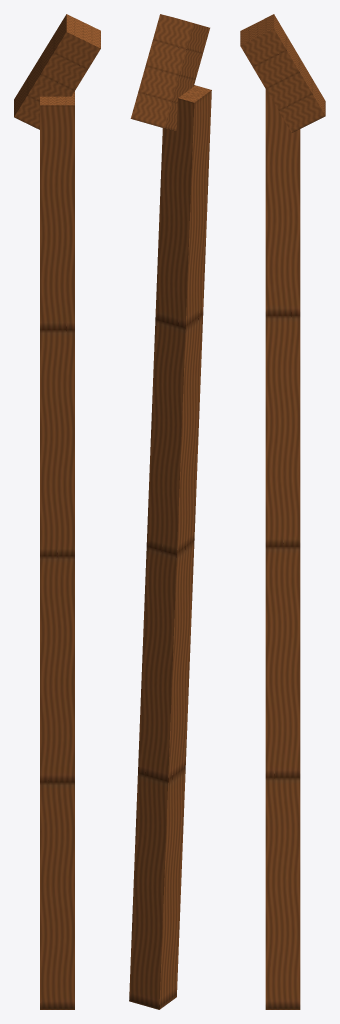
File: vine-stake.glb
3 renders of one model, left to right at view 1: azimuth 90°, elevation 25°; view 2: azimuth 150°, elevation 25°; view 3: azimuth 270°, elevation 25°, orthographic.
Parts seen in each view (by area): view 1: vine-stake-timber; view 2: vine-stake-timber; view 3: vine-stake-timber.
Boxes of the visible parts, box(x1,y1,x2,y2) form: vine-stake-timber: box(14, 14, 100, 1009); vine-stake-timber: box(129, 14, 211, 1009); vine-stake-timber: box(240, 14, 325, 1009).
Bounding box in the file's own units: 0.0969 × 1.39 × 0.111.
Materials: 1 (1 with a texture image).
